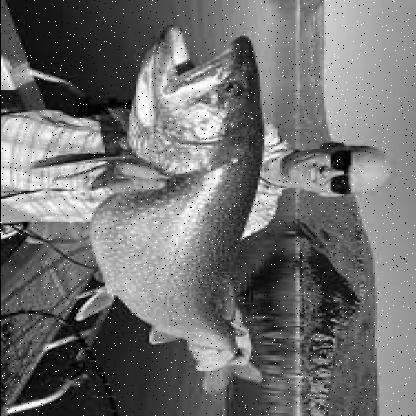fish: (78, 24, 274, 391)
